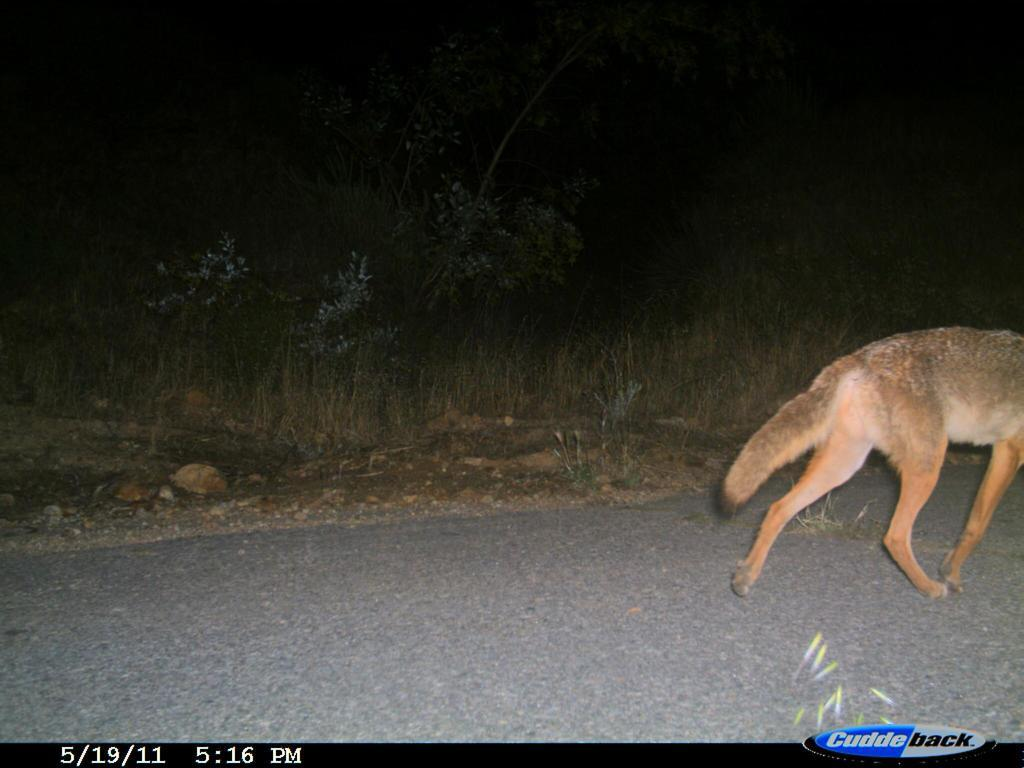coyote: (713, 318, 1019, 607)
